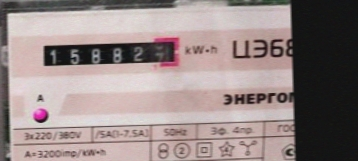1: (48, 48, 57, 65)
2: (132, 45, 142, 62)
5: (69, 48, 79, 64)
7: (154, 51, 163, 62)
8: (111, 46, 121, 64), (90, 48, 100, 64)
screen: (35, 32, 185, 76)
